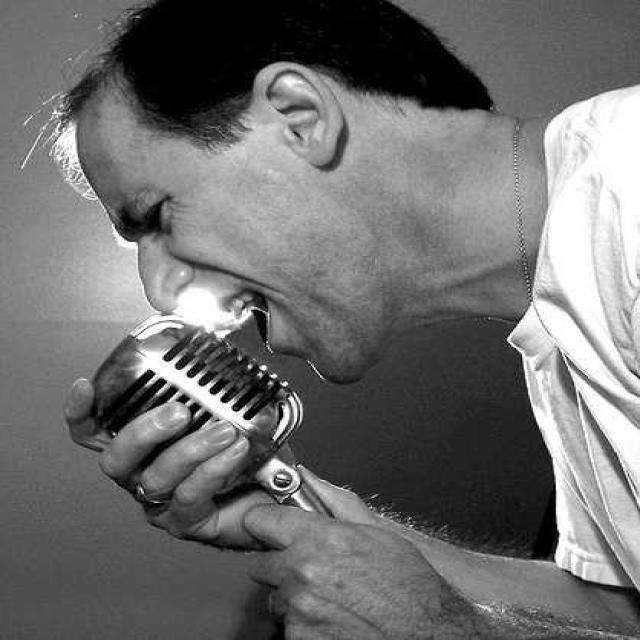microphone: (72, 311, 344, 534)
